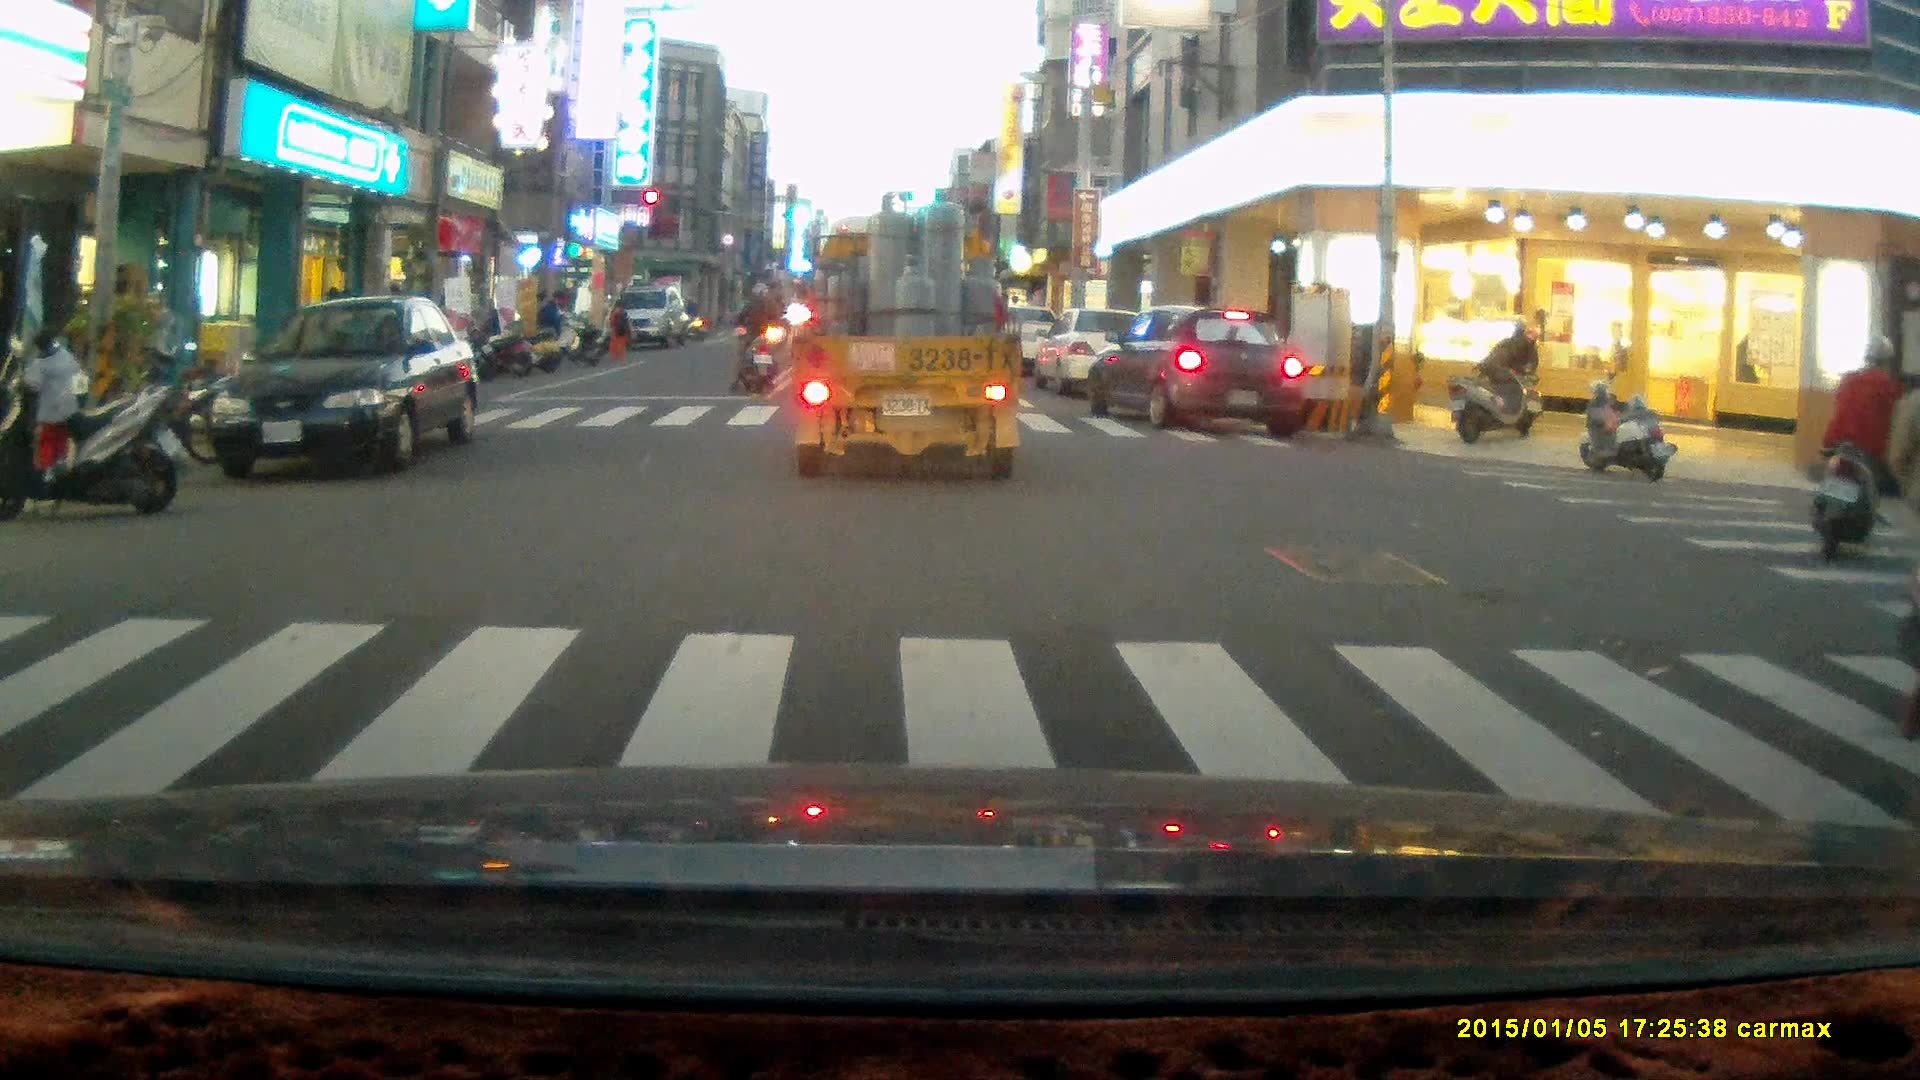pedestrian: (23, 325, 79, 481), (537, 286, 567, 357), (608, 296, 629, 358)
rider: (1809, 328, 1915, 563), (1483, 311, 1543, 437), (722, 275, 782, 398)
vehicle: (787, 188, 1020, 480), (208, 293, 480, 479), (1081, 308, 1310, 433), (1035, 307, 1171, 399), (607, 281, 687, 344)
